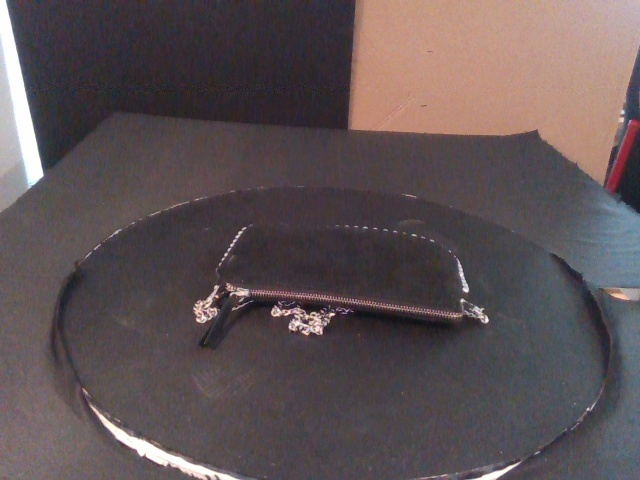bag: (215, 221, 469, 325)
